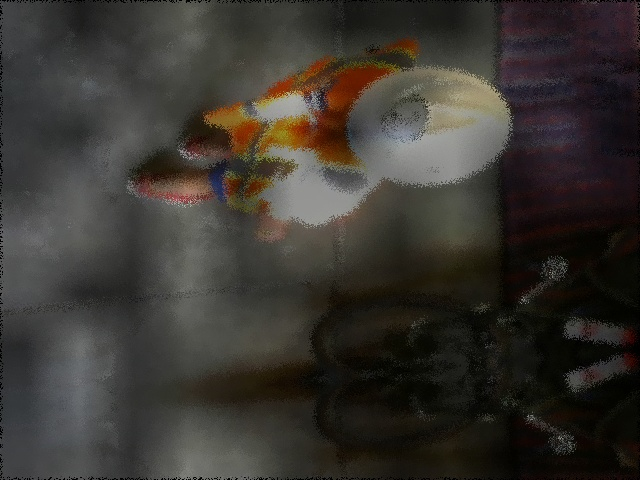two: (381, 94, 430, 141)
